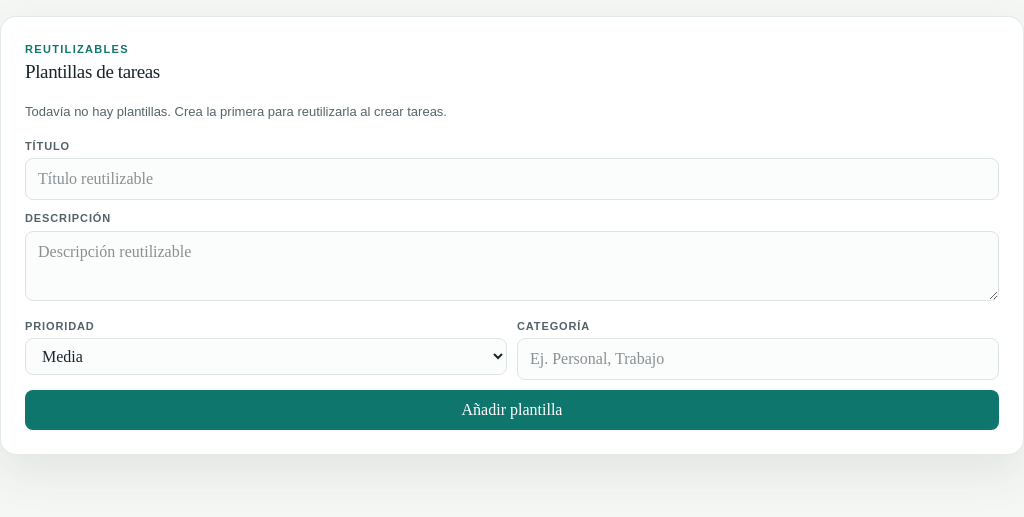
Scenario: TemplateManager › valida que el título sea obligatorio antes de enviar
Step 1. Click the button "Añadir plantilla" → click(512, 410), box [25, 390, 999, 430]
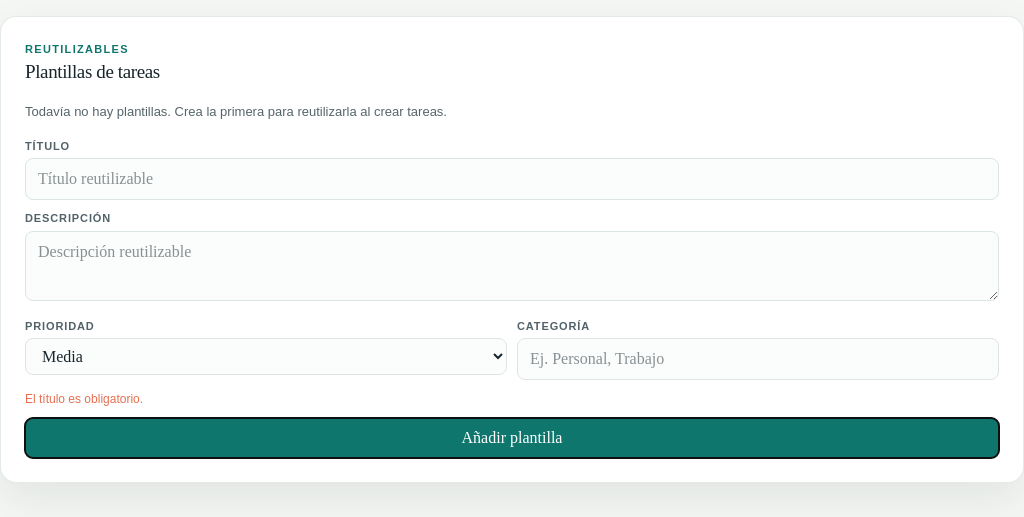
Now the text "El título es obligatorio." is shown, box [25, 392, 143, 406]
